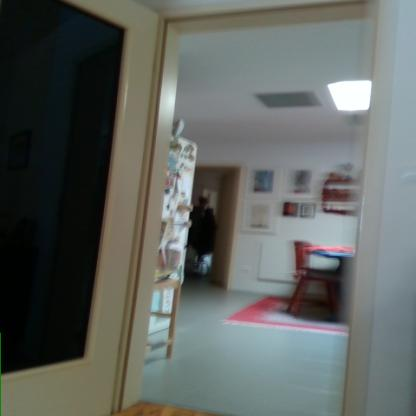open: (0, 0, 396, 416)
